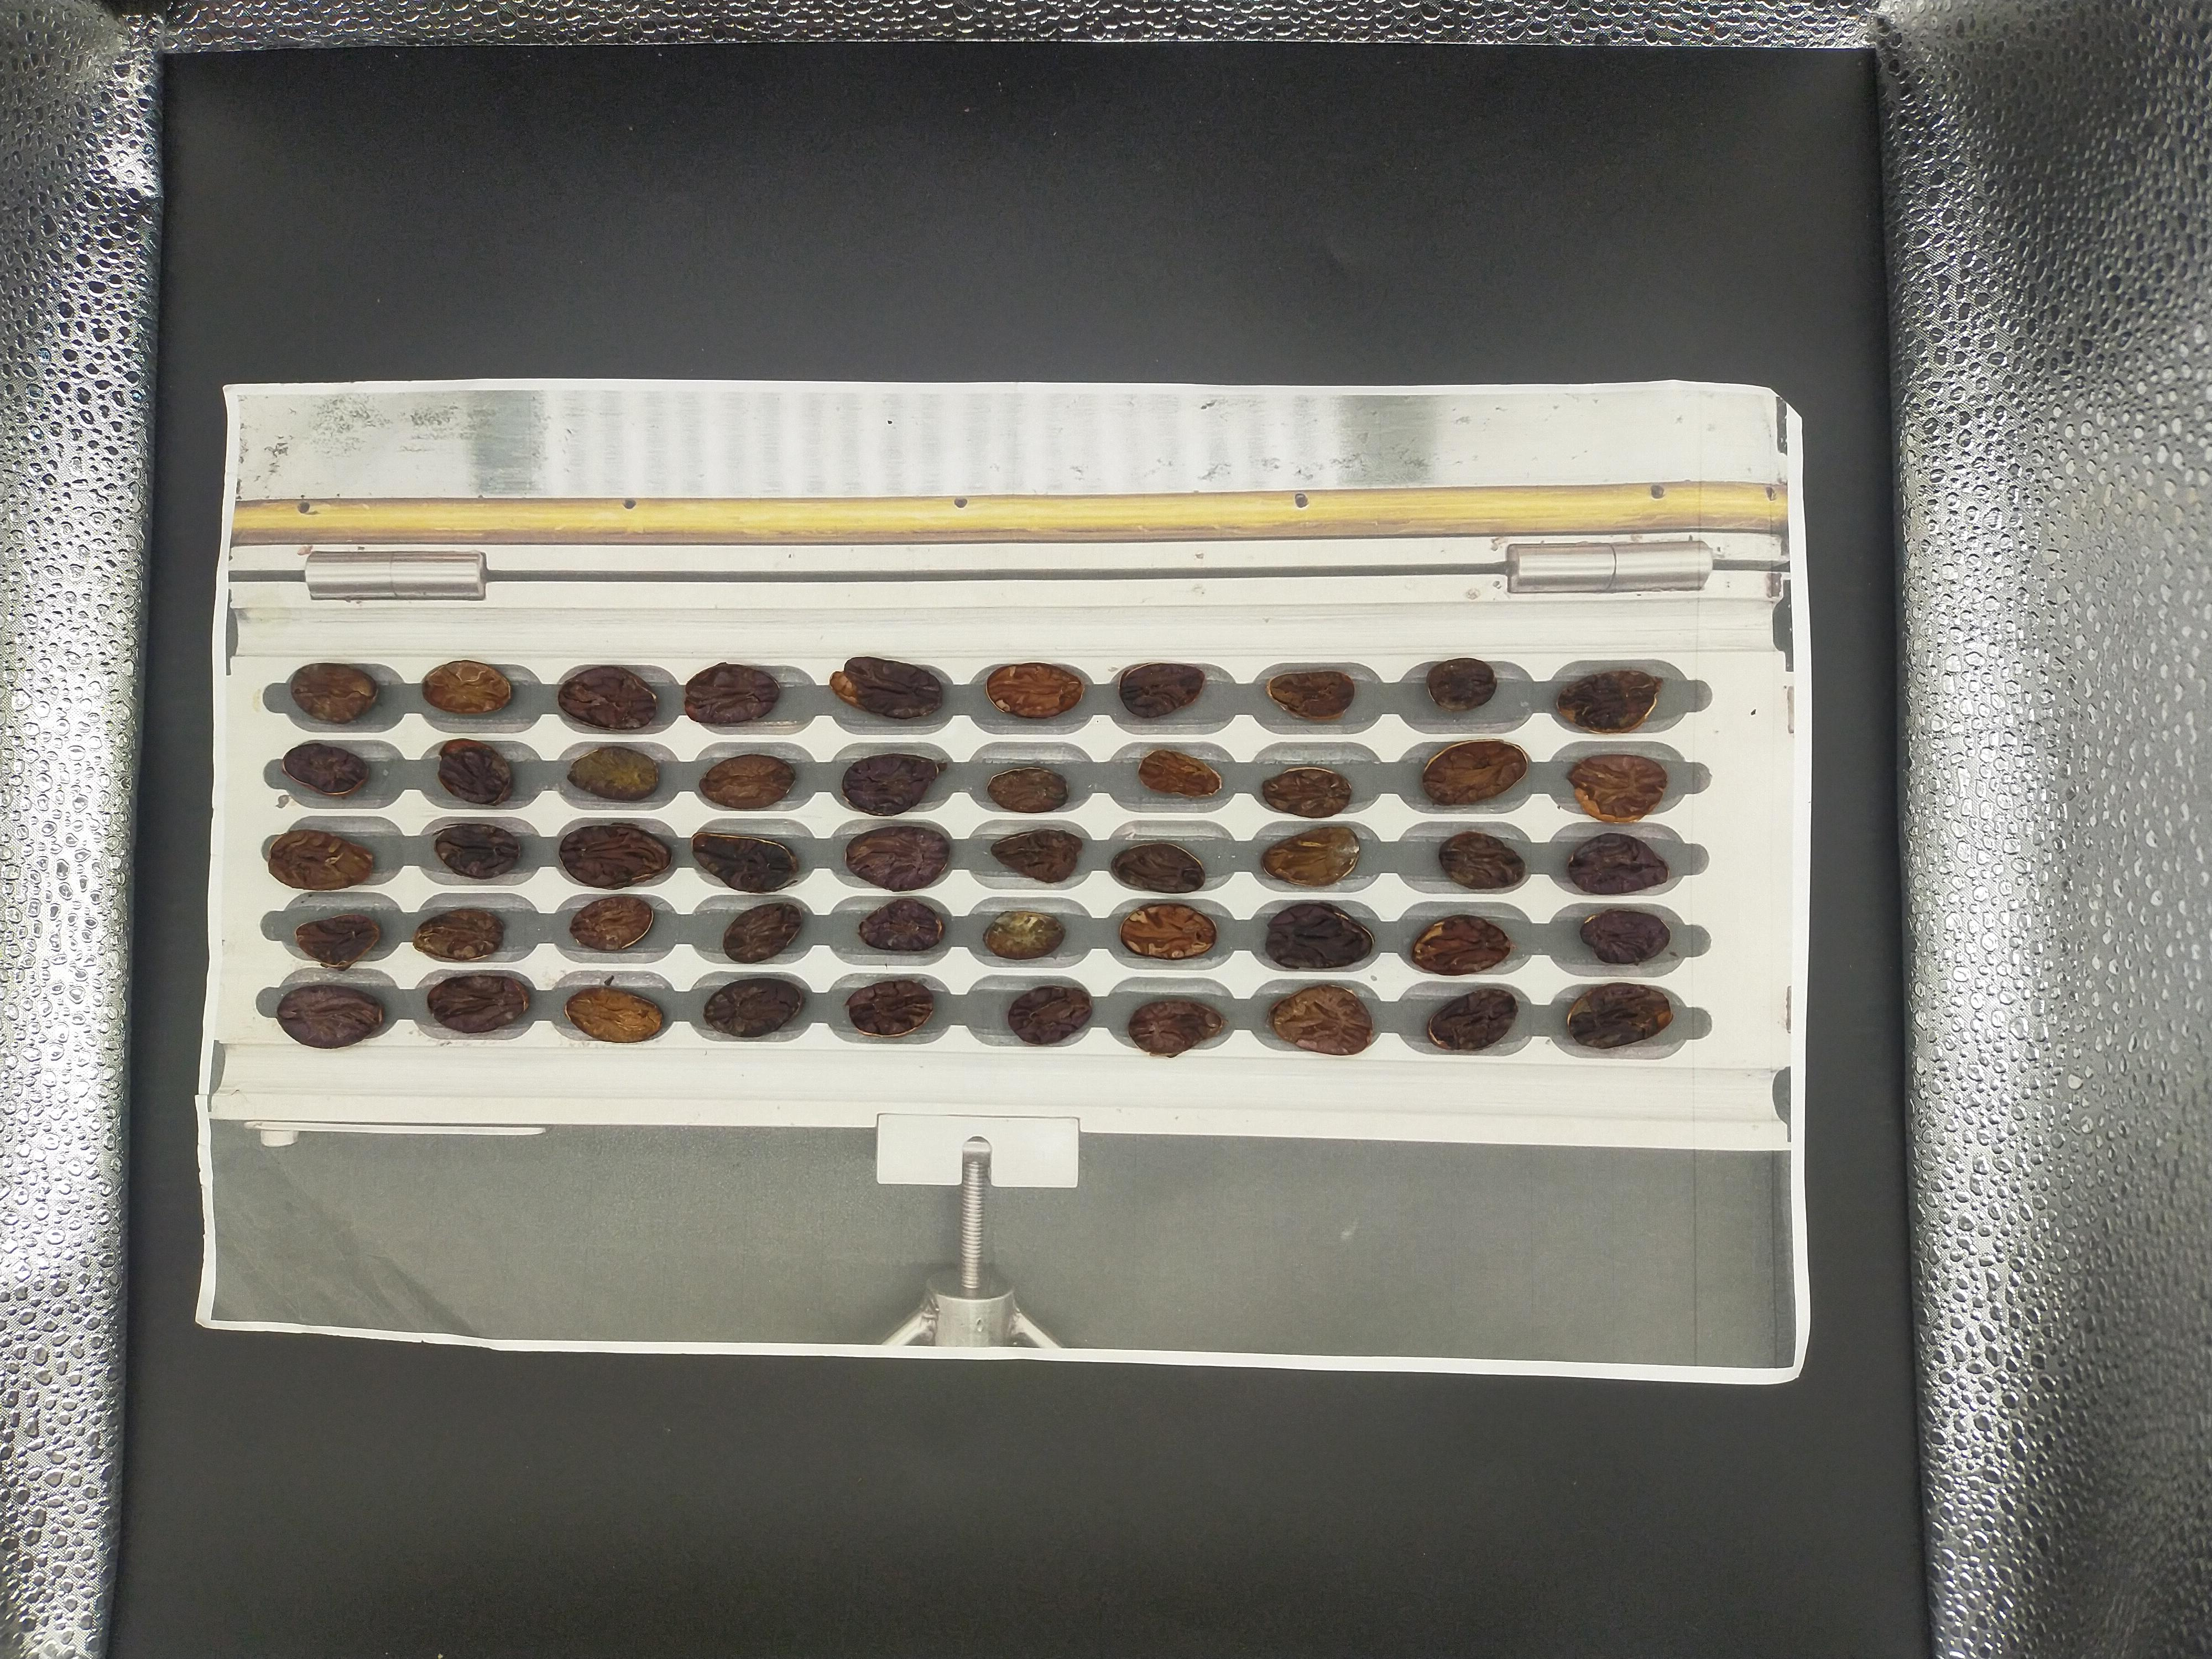Brown - G1: (1364, 420, 1426, 457), (1881, 385, 1937, 423), (1801, 467, 1857, 502), (1649, 462, 1705, 495), (1583, 338, 1637, 371), (1289, 462, 1341, 495), (1724, 389, 1775, 420), (1662, 383, 1707, 413)
Brown - G2: (1726, 502, 1787, 544), (1216, 422, 1277, 458), (1653, 511, 1712, 545), (1292, 336, 1345, 369), (1585, 423, 1639, 455), (1367, 458, 1418, 491)
Brown - G3: (1804, 376, 1865, 416), (1367, 502, 1425, 538), (1437, 383, 1491, 416), (1226, 338, 1277, 373), (1728, 340, 1777, 373)
Brown - G4: (1581, 389, 1630, 422)
Insect-damaged: (1369, 380, 1421, 413)
Mouldy: (1723, 423, 1780, 457), (1581, 464, 1629, 493)
Partly Purple - G1: (1724, 460, 1787, 500), (1512, 500, 1561, 535)
Partly Purple - G2: (1878, 502, 1940, 540), (1432, 422, 1493, 460), (1296, 497, 1355, 535), (1510, 422, 1569, 460), (1426, 336, 1482, 375), (1808, 502, 1858, 540), (1594, 500, 1641, 538), (1651, 336, 1700, 371)
Total Purple - G2: (1879, 425, 1939, 460), (1517, 457, 1566, 491)
Total Purple - G3: (1219, 502, 1280, 540), (1508, 385, 1568, 420), (1221, 378, 1271, 411), (1886, 465, 1939, 497)
Very Dark Brown - G1: (1503, 333, 1566, 371), (1876, 340, 1935, 378), (1301, 375, 1346, 416)
Very Dark Brown - G2: (1362, 336, 1420, 376), (1296, 418, 1350, 455), (1228, 465, 1278, 502), (1813, 425, 1864, 460), (1447, 462, 1496, 497)
Very Dark Brown - G3: (1437, 500, 1494, 535), (1646, 429, 1700, 458), (1806, 333, 1850, 368)
